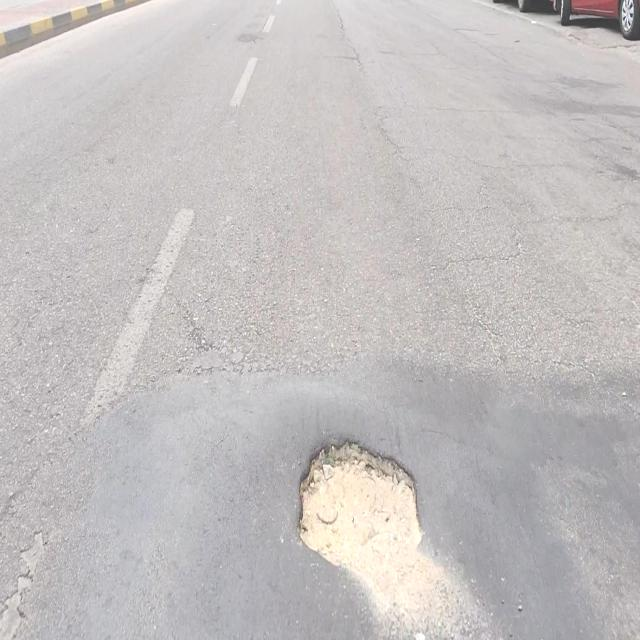Potholes: (298, 435, 426, 612)
